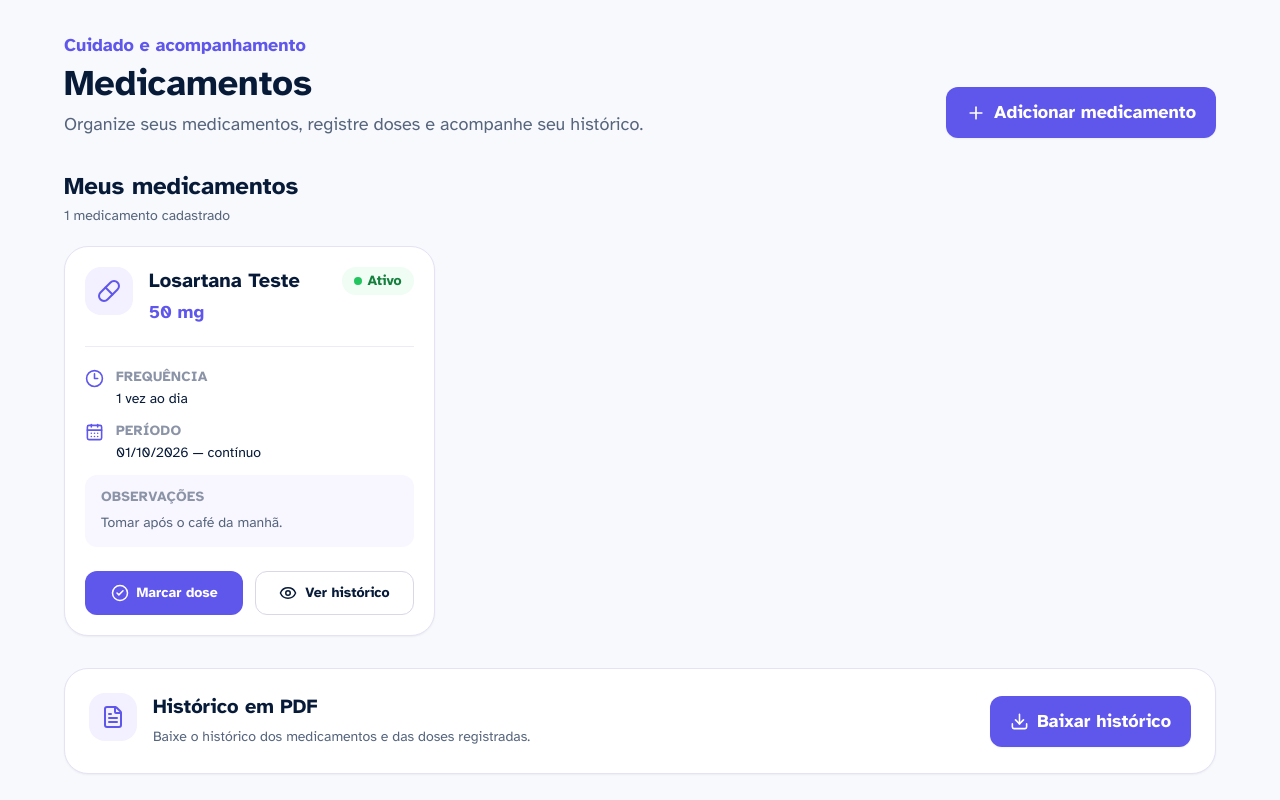
Test case: Remedios: acessibilidade do modal de dose › modal possui estrutura acessível
What coordinates should you click on to do the following:
click the button "Marcar dose"
I would click on:
 (164, 593)
Its box is [85,571,243,615].
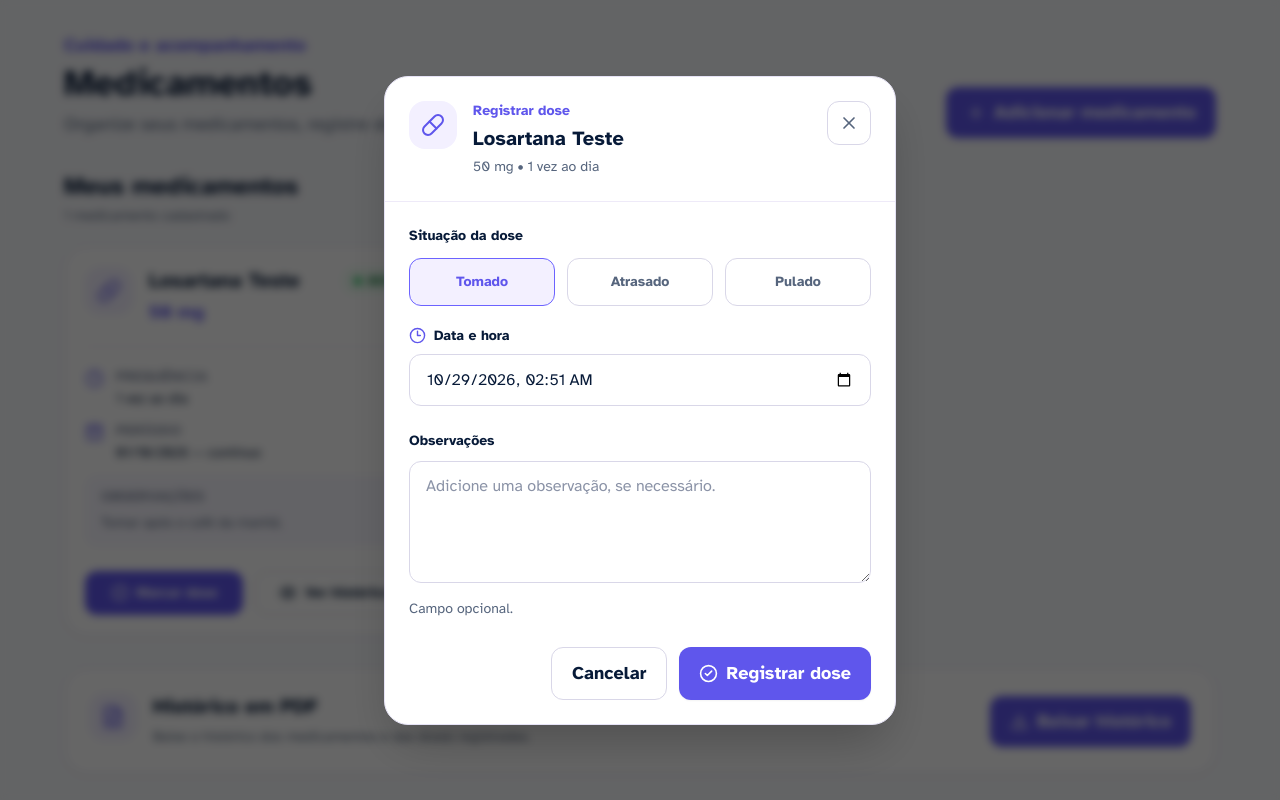
Check: the text "Situação da dose" is shown, box [409,226,523,246]
Check: the field labelled "Data e hora" is shown, box [409,354,871,406]
Check: the text box labelled "Observações" is shown, box [409,460,871,582]
